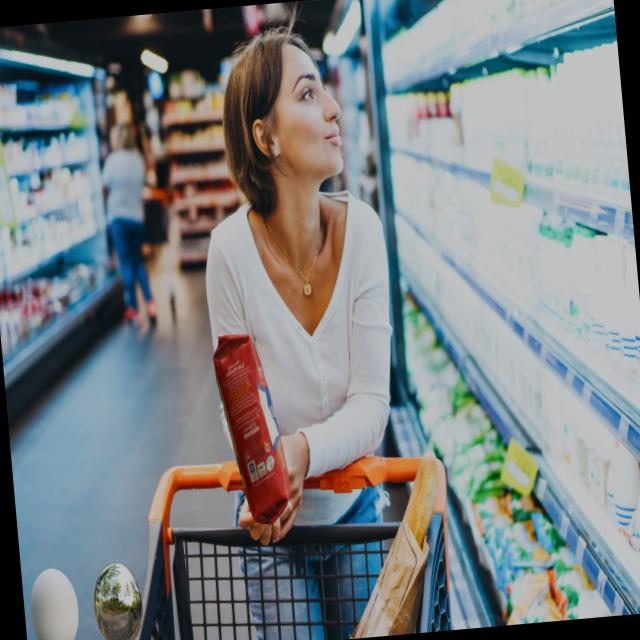mate bag: (210, 328, 294, 528)
